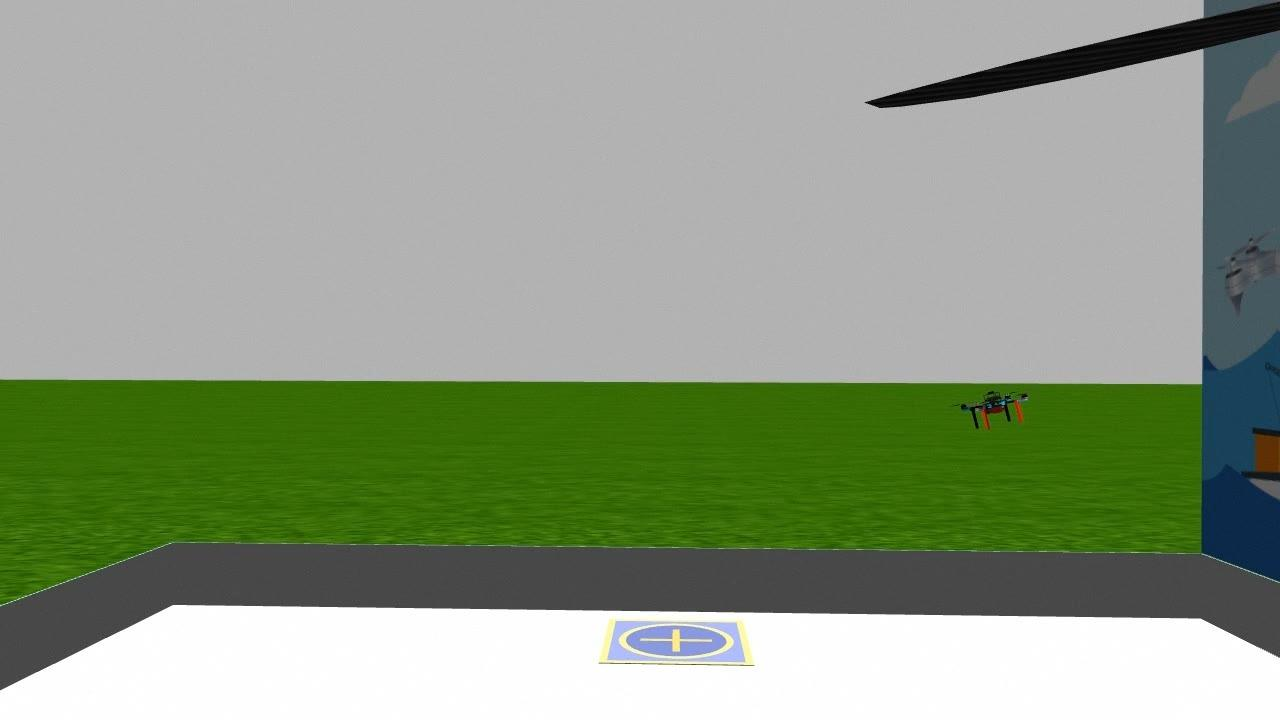UAV: (959, 384, 1033, 434)
